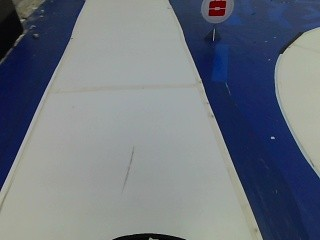company: (197, 0, 235, 24)
